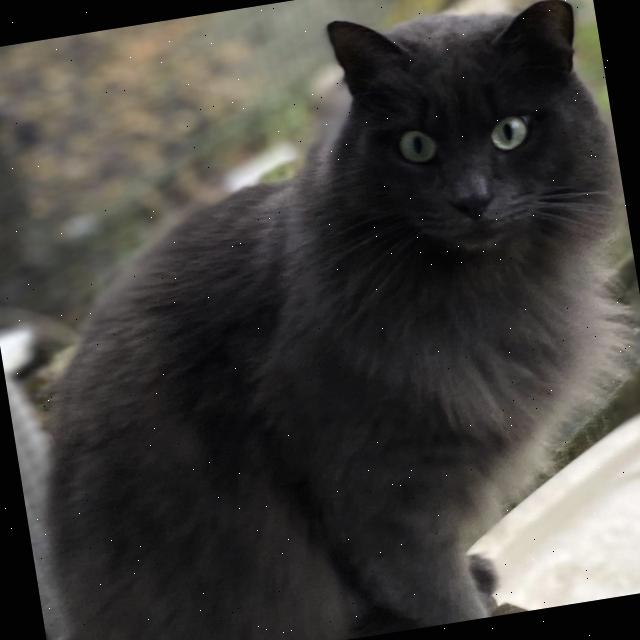domestic_long_hair_cat: (293, 0, 634, 305)
